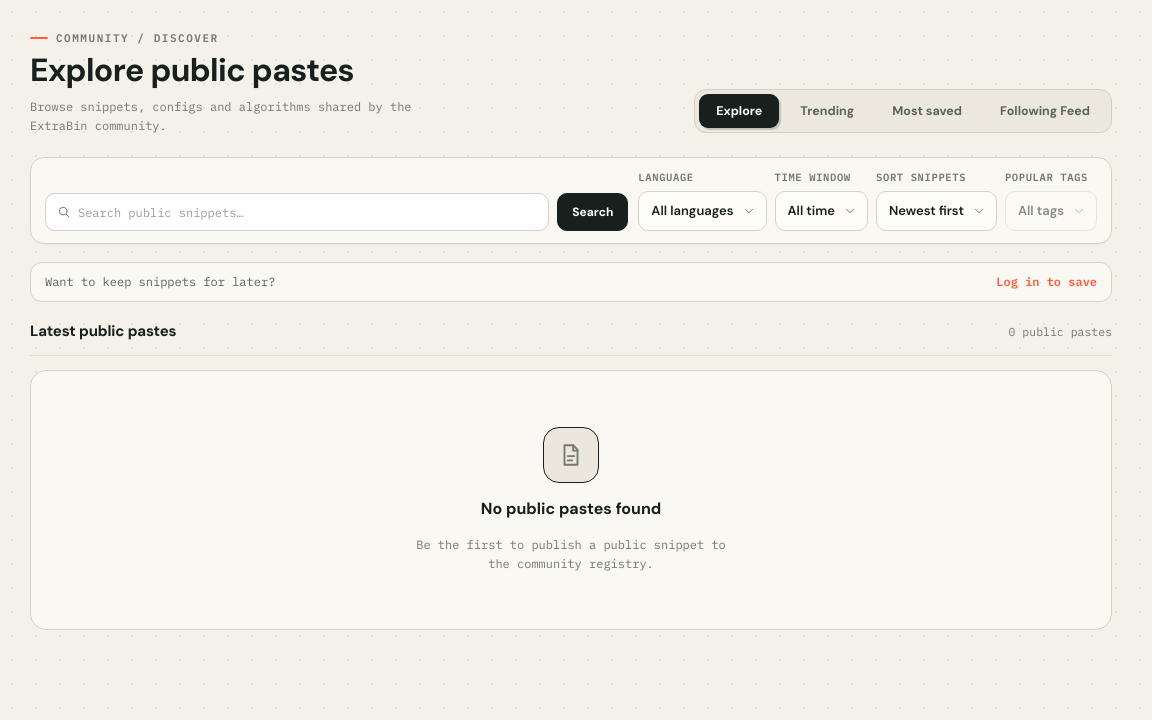
Test: DiscoveryPage redesign contract › RED-D20 emptyExplore_showsClearFiltersInsideEmptyState
Check: the heading "No public pastes found" is shown, box top-left (481, 497), bottom-right (661, 521)
Step 1. Type "zzz" into the field labelled "Search public snippets" → [297, 212], box top-left (45, 193), bottom-right (549, 231)
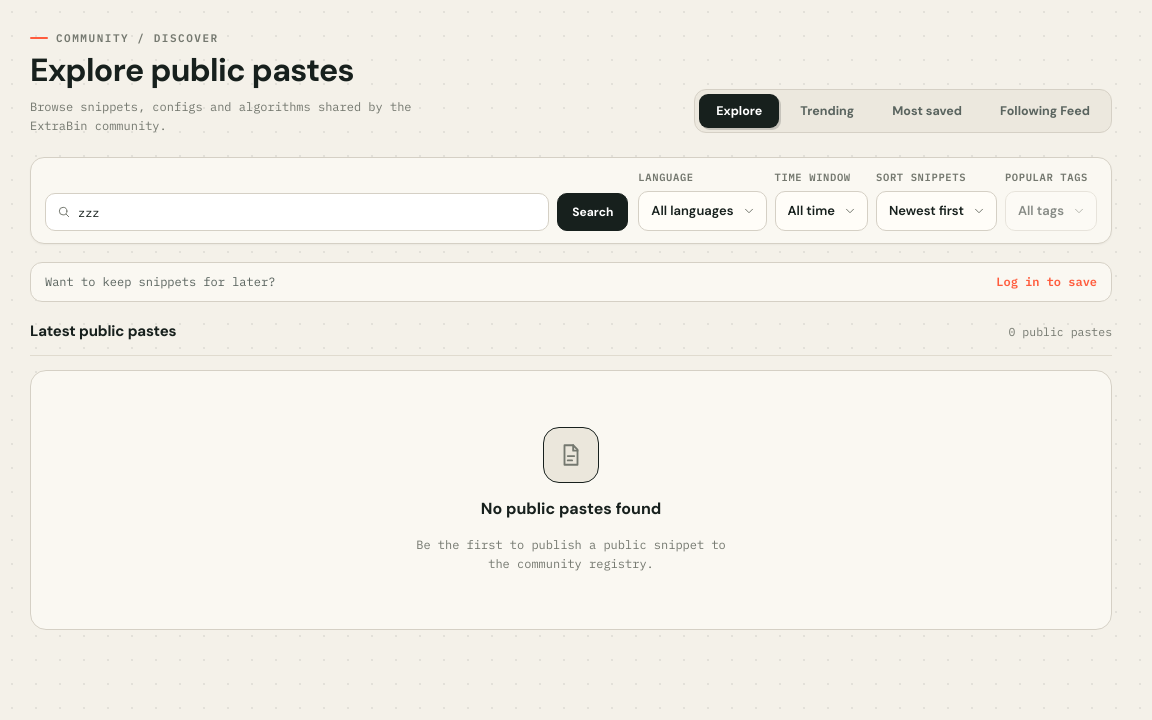
Step 2. Submit the form named "Search public snippets", box top-left (45, 193), bottom-right (628, 231)
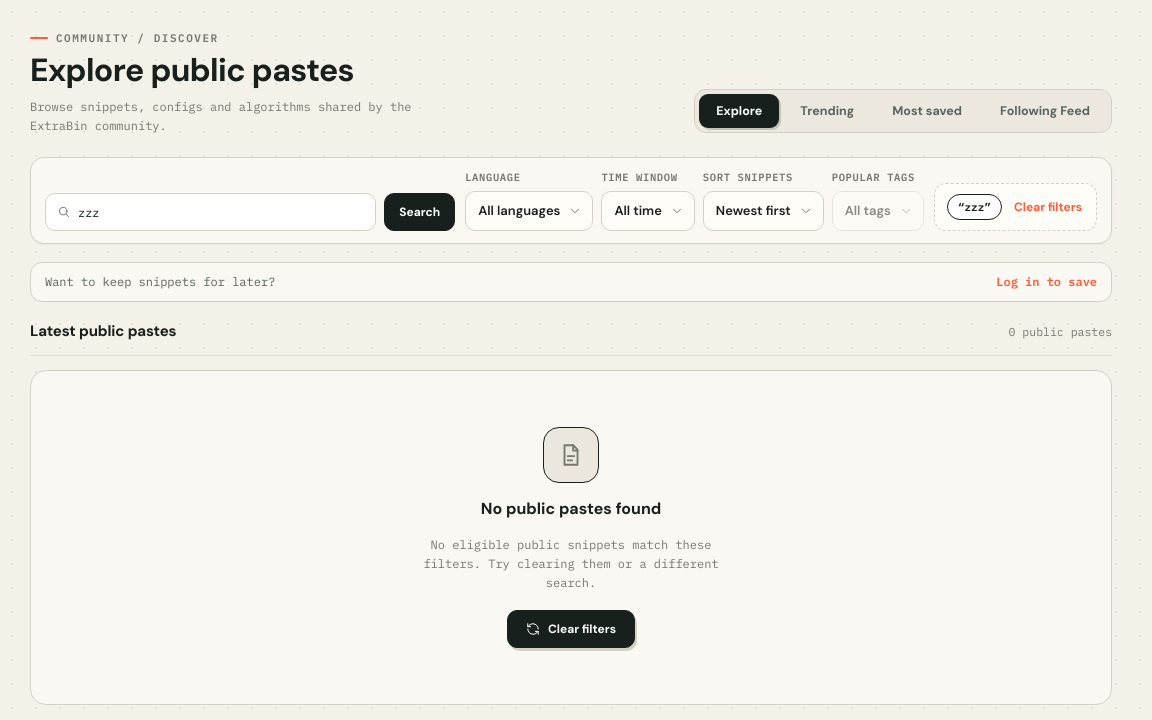
Check: the button "Clear filters" below "No public pastes found" is shown, box top-left (507, 610), bottom-right (635, 648)
